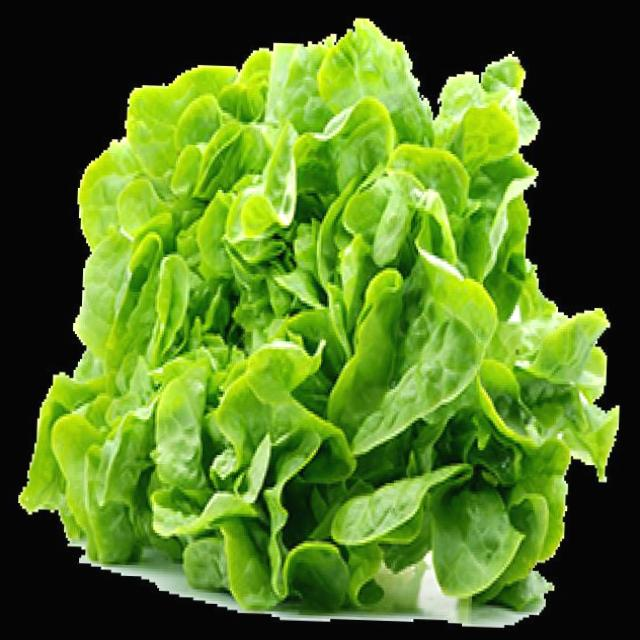Lettuce-Ready-to-Harvest: (20, 19, 617, 625)
